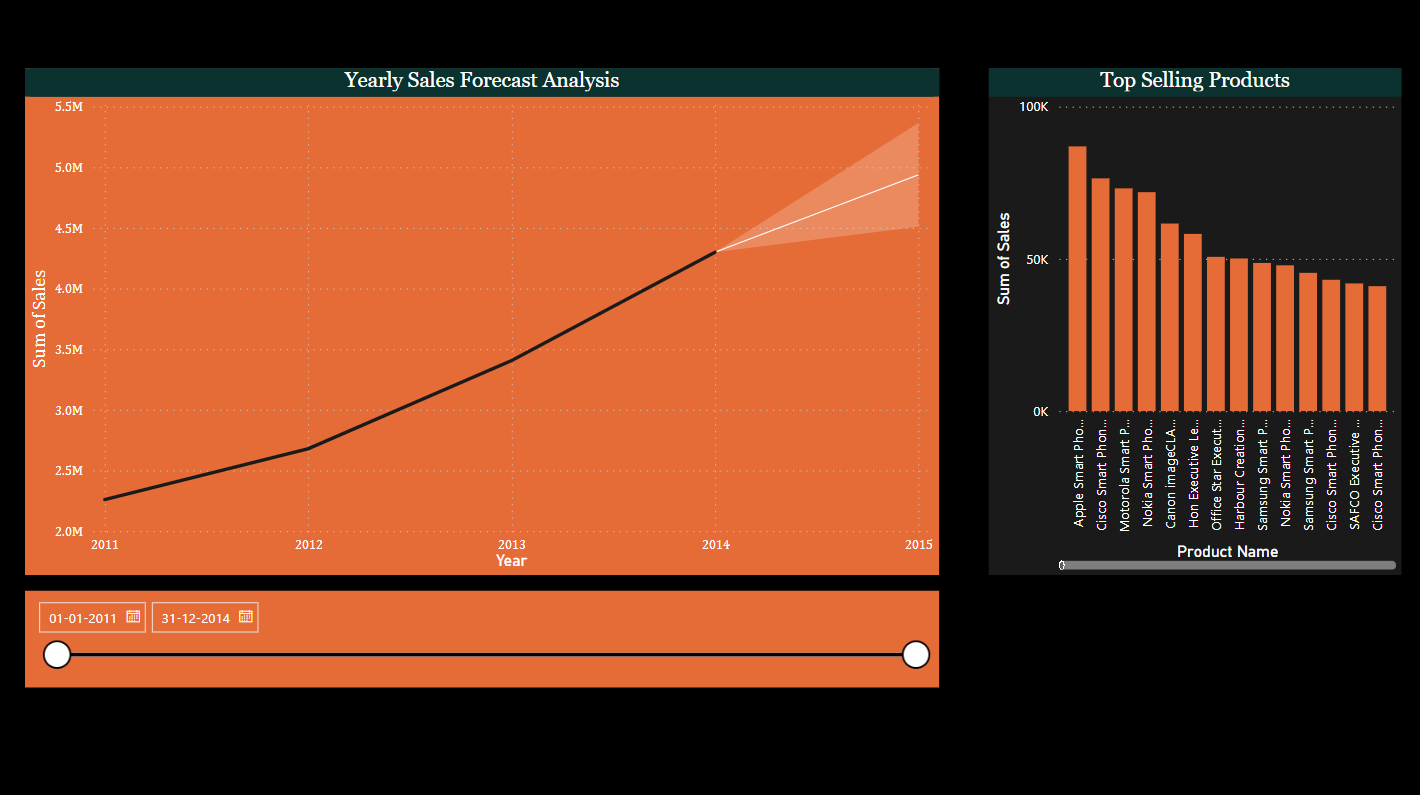

Layout of this report page (visuals, bound fields, positions):
{"tool":"powerbi","page":{"name":"Page 2","canvas":[1280,720],"ordinal":1},"visuals":[{"type":"lineChart","title":"Yearly Sales Forecast Analysis","fields":{"Category":["Orders.Order Date.Variation.Date Hierarchy.Year","Orders.Order Date.Variation.Date Hierarchy.Quarter","Orders.Order Date.Variation.Date Hierarchy.Month","Orders.Order Date.Variation.Date Hierarchy.Day"],"Y":["Sum(Orders.Sales)"]},"box":[22,63.6,1177.2,457.2],"z":0},{"type":"slicer","fields":{"Values":["Orders.Order Date"]},"box":[22,530.5,1177.2,103.9],"z":1000}]}

Visuals, with their boxes in screenshot pixels (x1, y1, x2, y2), scaled from the page's 1280x720 canvas onto the 1420x795 screenshot:
"Yearly Sales Forecast Analysis" lineChart: 24, 70, 1330, 575
slicer - Orders.Order Date: 24, 586, 1330, 700
